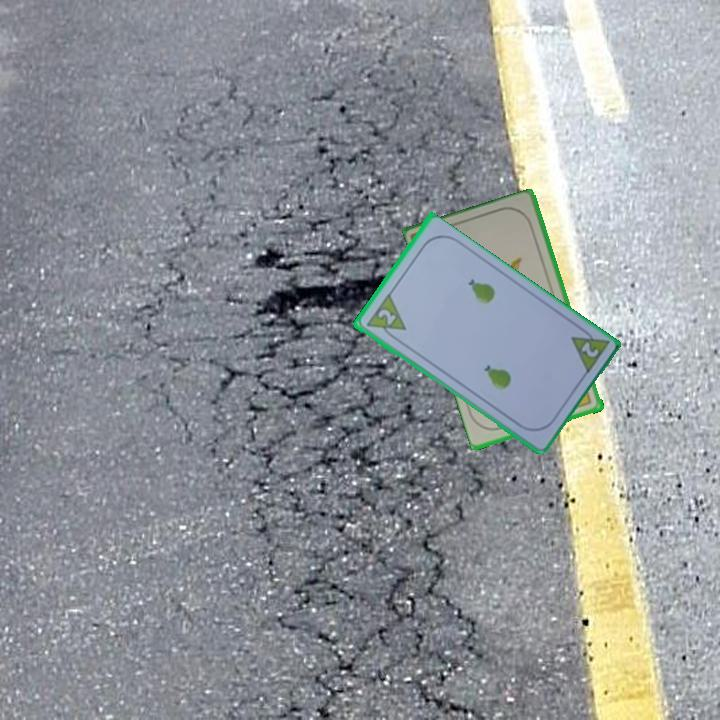2p: (373, 305, 399, 328), (576, 338, 601, 361)
